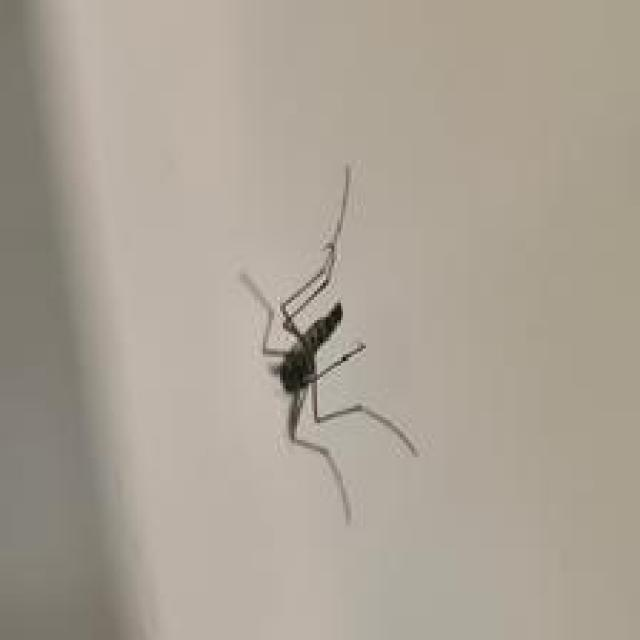Aedes albopictus: (237, 163, 420, 526)
